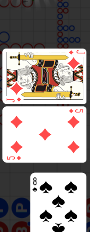5D: (5, 155, 22, 162)
JD: (5, 97, 22, 103)
